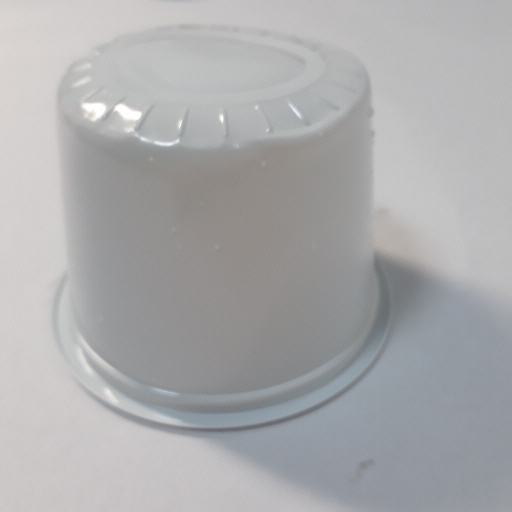Plastic_5: (40, 21, 396, 434)
